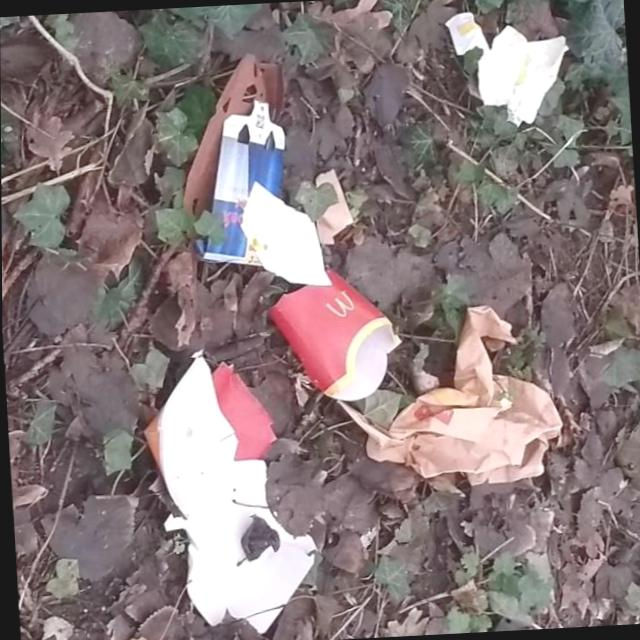Paper: (135, 341, 324, 640), (329, 299, 568, 505), (262, 262, 408, 406), (443, 5, 575, 132), (236, 175, 335, 292)
